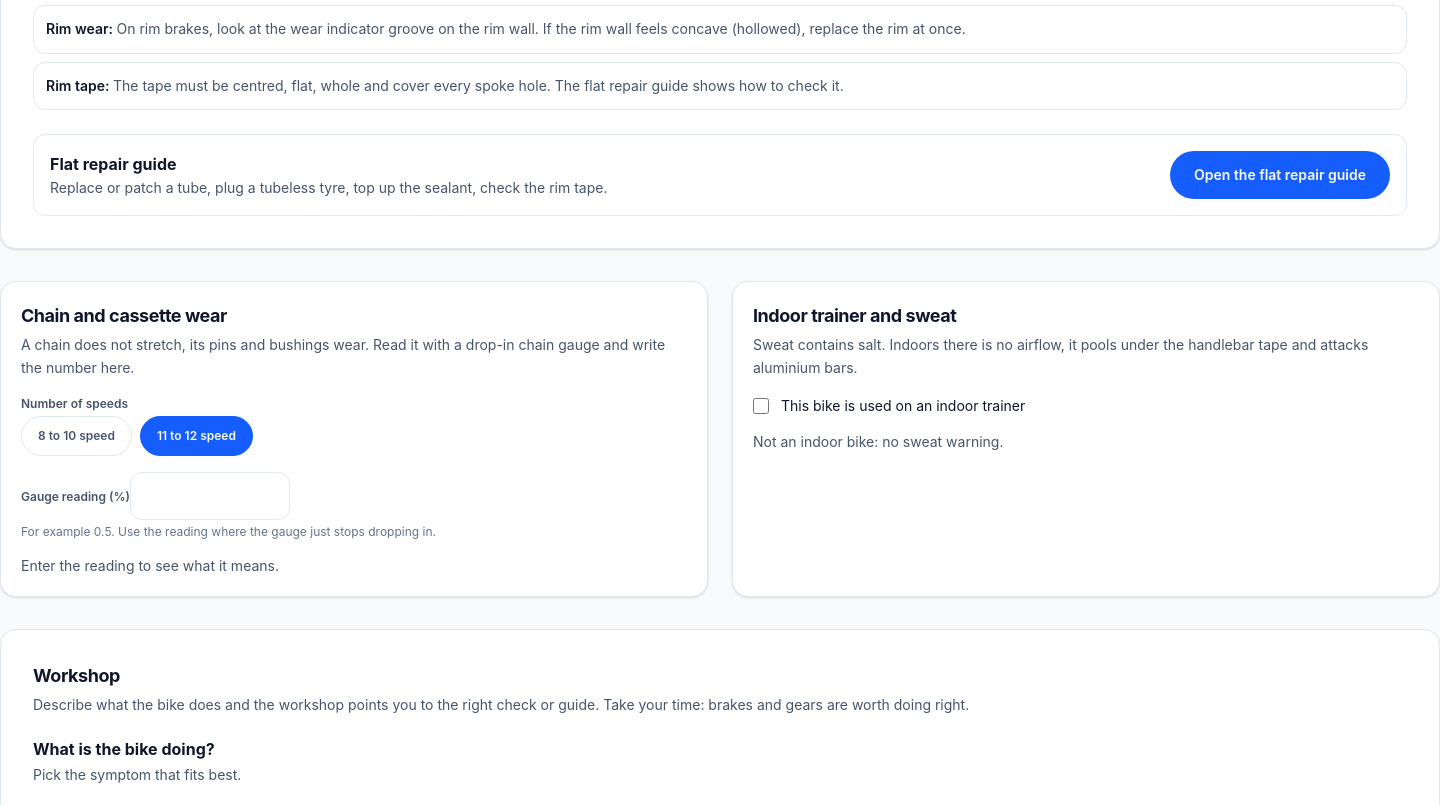
Scenario: the bAIkcare page (en) › the indoor trainer › should ask for the day of the tape, then warn after six months and stay calm before
(page scrolled)
Click the checkbox with test id "trainer-switch" at (761, 406), box [753,398,769,414]
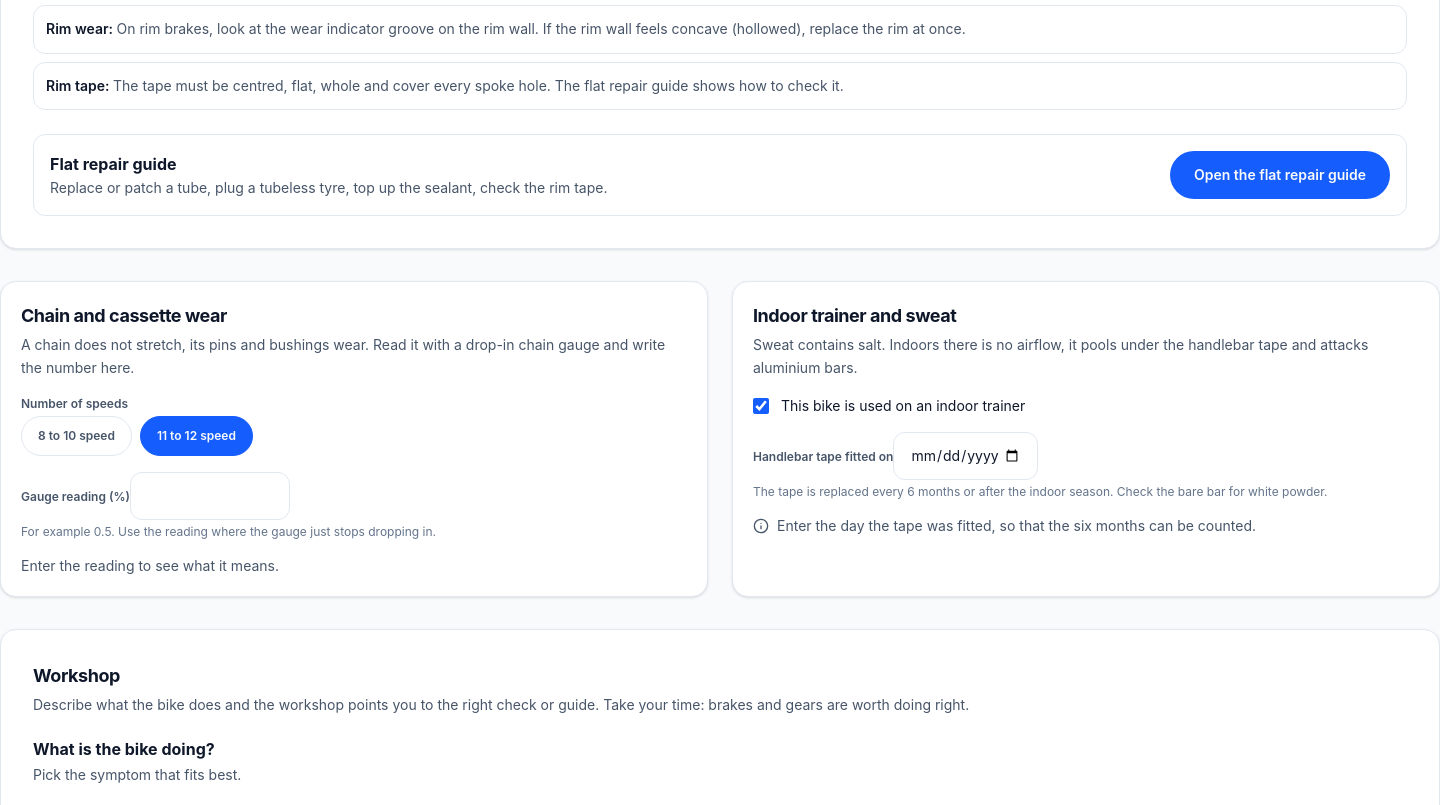
Result: the message with test id "tape-unknown" reads "Enter the day the tape was fitted, so that the six months can be counted." at [777,517,1256,534]
Type "2026-04-01" into the date field with test id "tape-date" at (966, 456), box [893,432,1038,480]
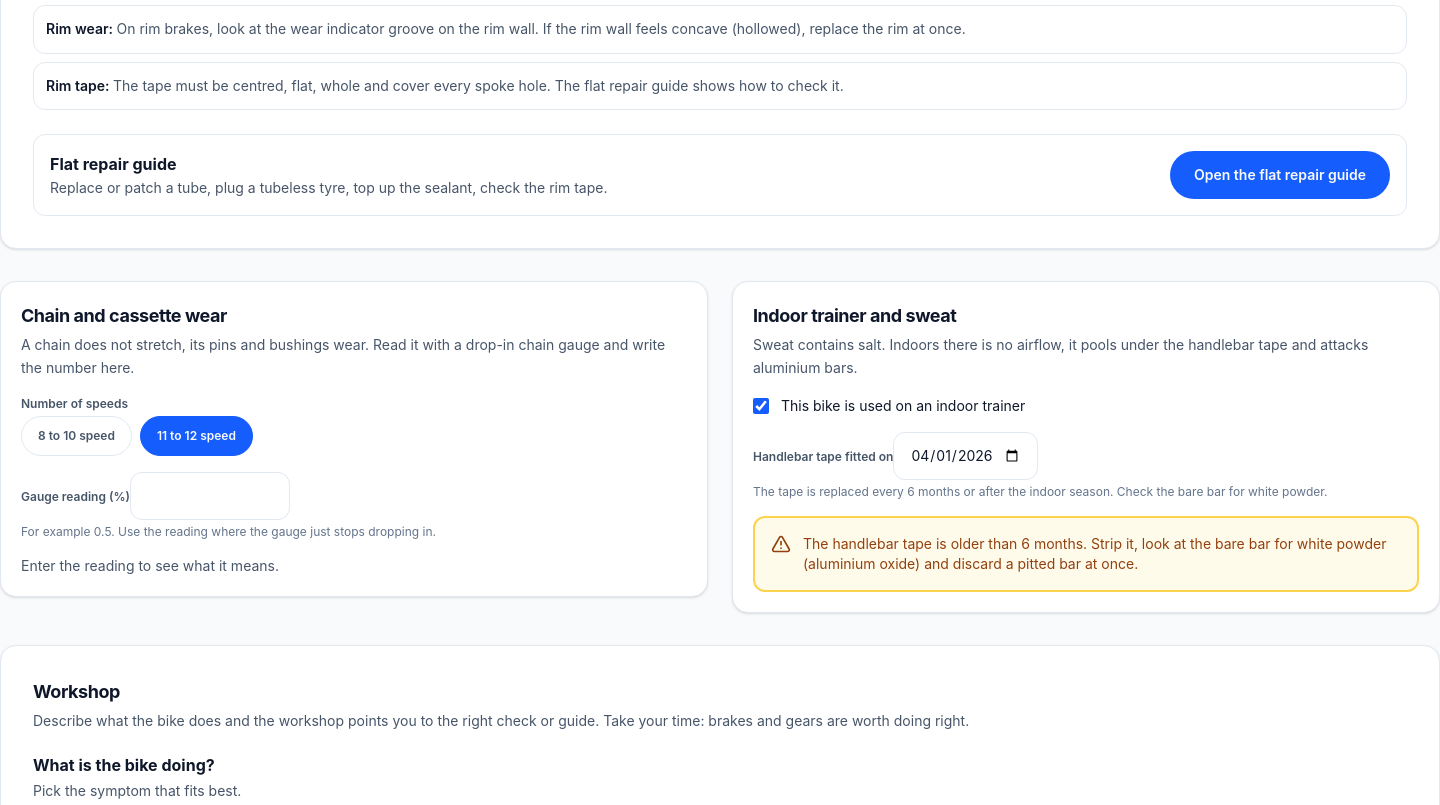
Result: the message with test id "tape-due" shows "The handlebar tape is older than 6 months. Strip it, look at the bare bar for white powder (aluminium oxide) and discard a pitted bar at once." at [803,535,1386,572]
Type "2026-09-01" into the date field with test id "tape-date" at (966, 456), box [893,432,1038,480]
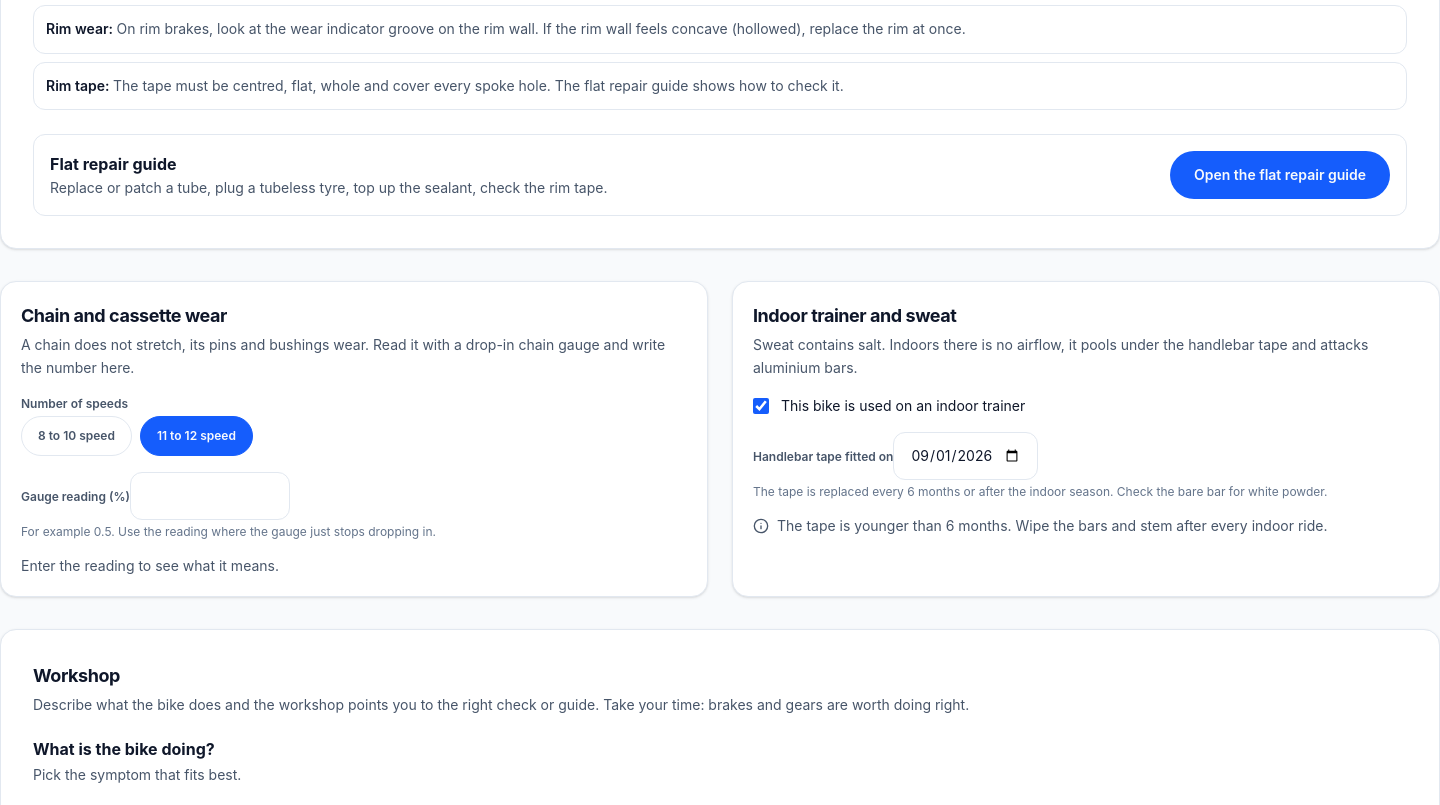
Result: the message with test id "tape-fine" shows "The tape is younger than 6 months. Wipe the bars and stem after every indoor ride." at [777,517,1328,534]
